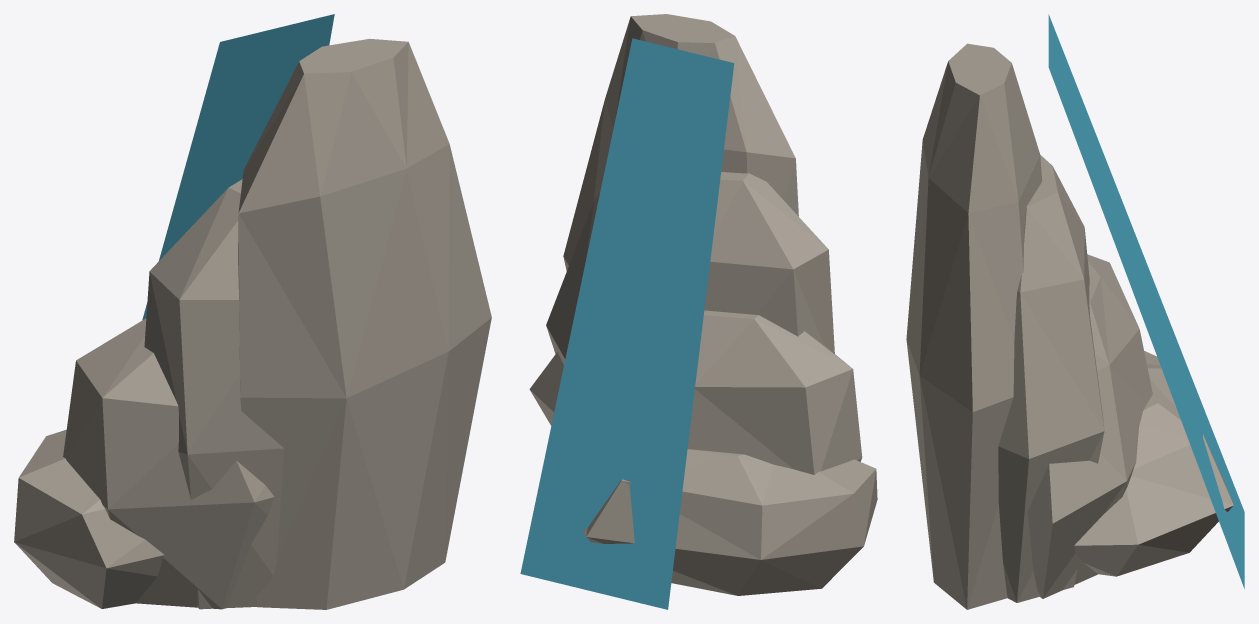
Rendered from waterfall_rock.fbx.
3 renders of one model, left to right at view 1: azimuth 30°, elevation 25°; view 2: azimuth 150°, elevation 25°; view 3: azimuth 270°, elevation 25°, orthographic. The views are drawn at different scales.
Visible parts, largest first — view 1: waterfall_rock; view 2: waterfall_rock; view 3: waterfall_rock.
Part boxes in pixels (box(x1,y1,x2,y2)): waterfall_rock: box(14, 14, 491, 609); waterfall_rock: box(520, 14, 877, 609); waterfall_rock: box(906, 14, 1244, 609).
Size of the model in its own units: 4 by 5 by 3.
